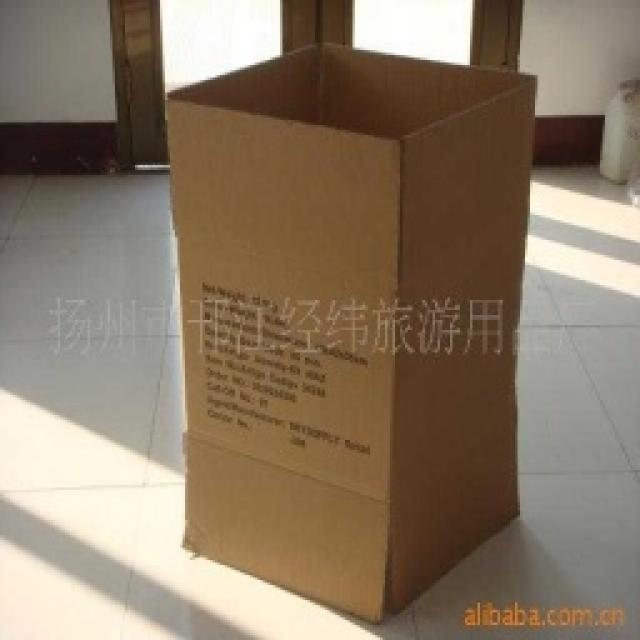box: (149, 47, 551, 609)
